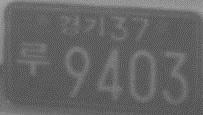0: (127, 49, 156, 105)
3: (160, 48, 188, 105), (108, 15, 128, 42)
4: (95, 48, 124, 102)
7: (130, 15, 148, 42)
9: (62, 45, 92, 98)
경기_O: (59, 14, 106, 39)
루: (15, 40, 50, 76)
